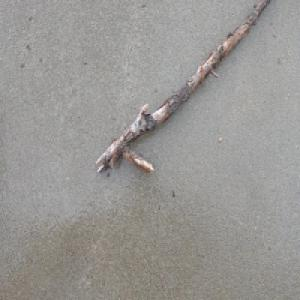Wood: (94, 0, 273, 177)
